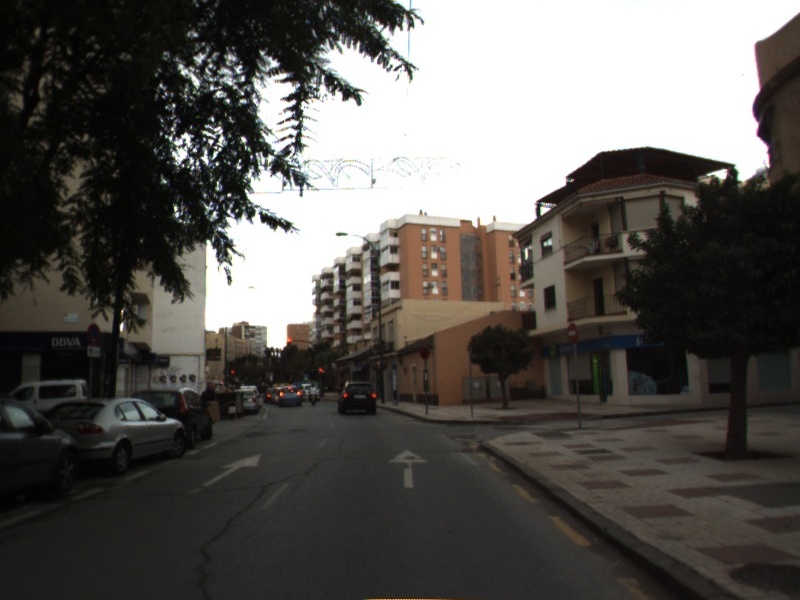STRAIGHT: (200, 452, 263, 489), (386, 446, 431, 490)
